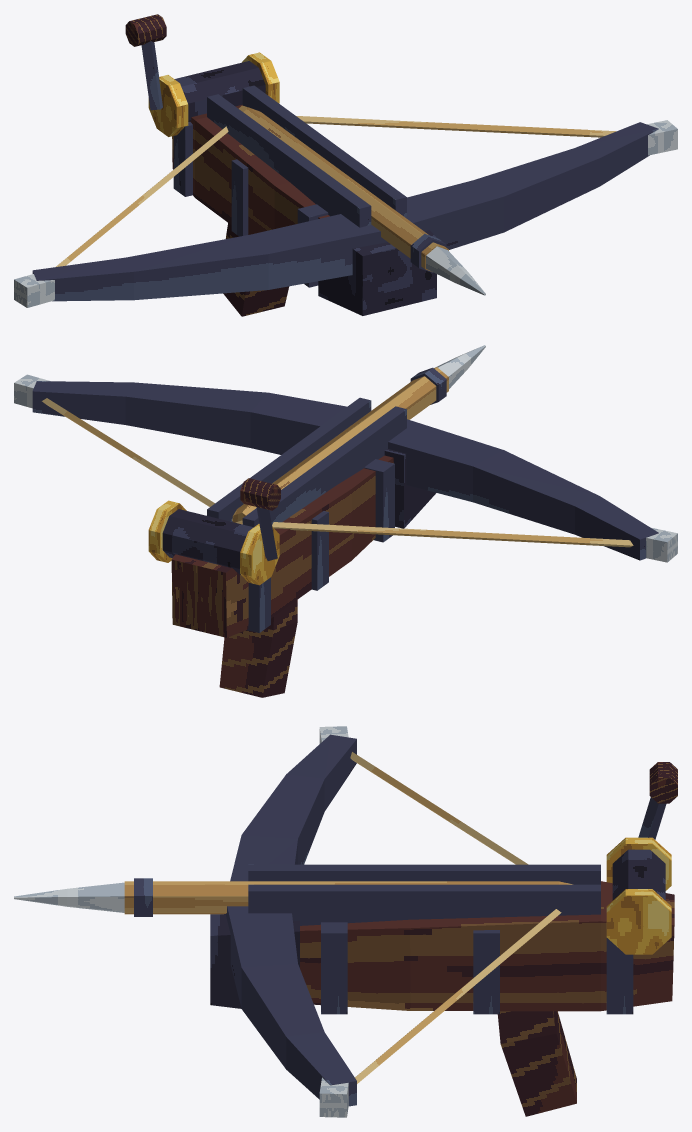
Rendered from stake_crossbow_loaded.glb.
3 views of the same model, one above another, from view 1: azimuth 30°, elevation 25°; view 2: azimuth 150°, elevation 25°; view 3: azimuth 270°, elevation 25° (orthographic). The views are drawn at different scales.
Visible parts, largest first — view 1: crossbow, stake, crank; view 2: crossbow, stake, crank; view 3: crossbow, stake, crank.
Boxes of the visible parts, x1,y1,x2,y2 form: crossbow: (14,52,677,316); stake: (238,105,485,295); crank: (125,14,166,110); crossbow: (14,374,677,697); stake: (232,345,485,522); crank: (240,478,280,560); crossbow: (210,726,674,1117); stake: (14,878,572,916); crank: (638,762,677,839).
Size of the model in its own units: 0.3454 by 0.1325 by 0.2634.
1 material, 1 textured.
